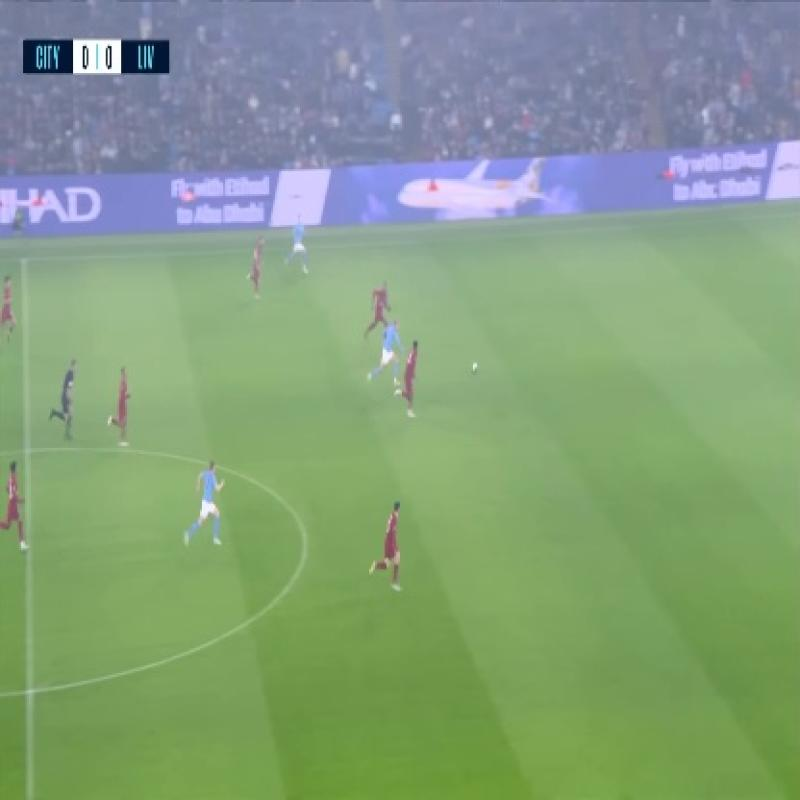13: (13, 247, 35, 274)
14: (16, 430, 40, 470)
15: (15, 669, 42, 712)
c: (278, 508, 330, 564)
